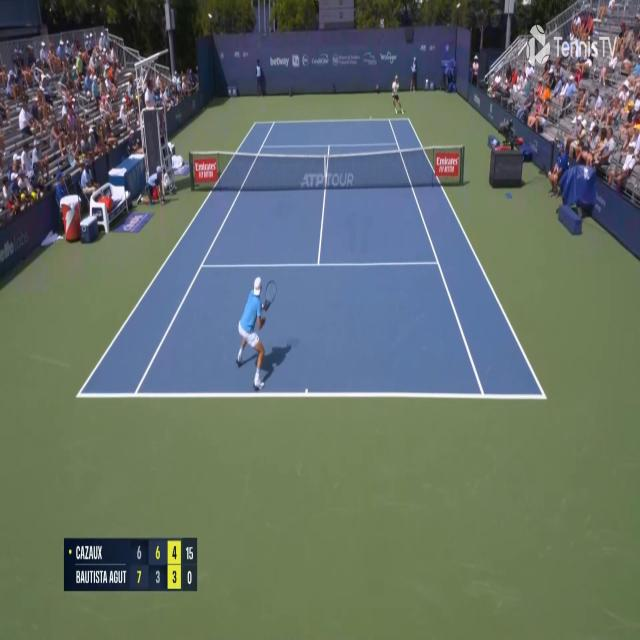tennis-player: (235, 274, 276, 393), (391, 73, 404, 116)
